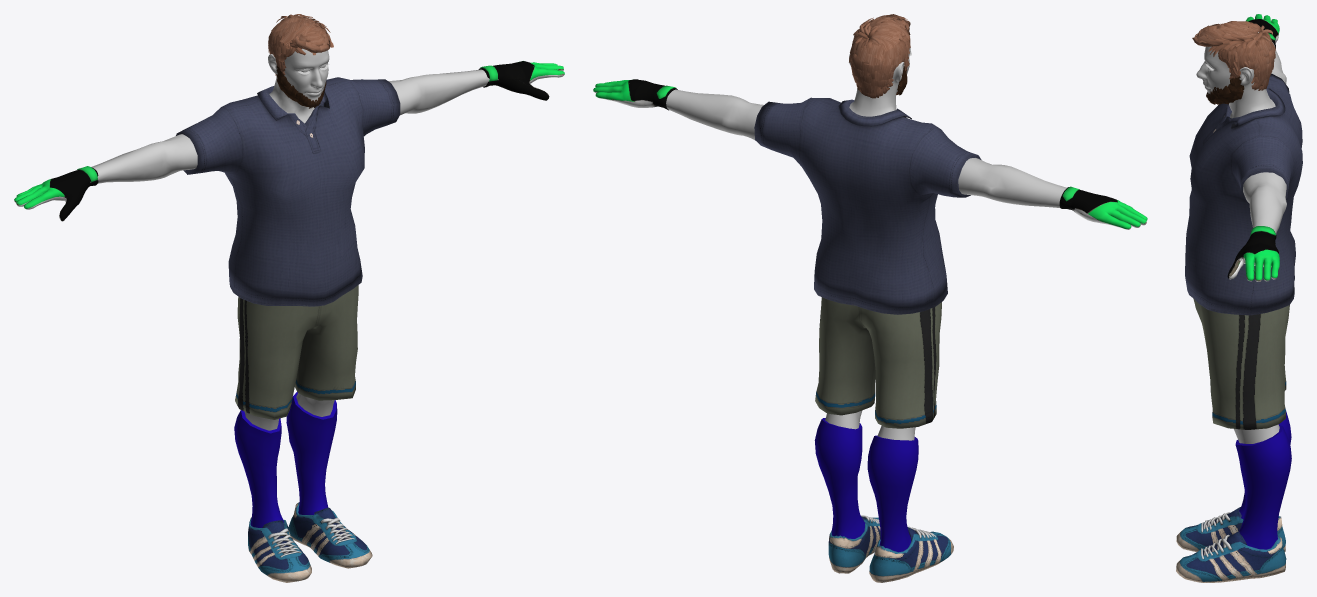
File: football-player.obj
3 views of the same model, side by side, from view 1: azimuth 30°, elevation 25°; view 2: azimuth 150°, elevation 25°; view 3: azimuth 270°, elevation 25° (orthographic).
Visible parts, largest first — view 1: Tops, Bottoms, Body, Socks, Shoes, Gloves, Hair; view 2: Tops, Bottoms, Socks, Body, Shoes, Hair, Gloves; view 3: Tops, Bottoms, Shoes, Socks, Body, Hair, Gloves, Beards.
Part boxes in pixels (x1=…): Tops: x1=176, y1=77, x2=400, y2=306; Bottoms: x1=235, y1=285, x2=358, y2=419; Body: x1=90, y1=19, x2=498, y2=430; Socks: x1=234, y1=392, x2=337, y2=527; Shoes: x1=248, y1=502, x2=372, y2=582; Gloves: x1=14, y1=61, x2=564, y2=221; Hair: x1=268, y1=14, x2=333, y2=75; Tops: x1=754, y1=97, x2=981, y2=314; Bottoms: x1=815, y1=297, x2=941, y2=428; Socks: x1=814, y1=418, x2=918, y2=552; Body: x1=666, y1=48, x2=1066, y2=440; Shoes: x1=828, y1=515, x2=953, y2=582; Hair: x1=849, y1=14, x2=910, y2=98; Gloves: x1=593, y1=79, x2=1147, y2=229; Tops: x1=1185, y1=73, x2=1302, y2=315; Bottoms: x1=1193, y1=298, x2=1289, y2=429; Shoes: x1=1176, y1=507, x2=1286, y2=582; Socks: x1=1235, y1=411, x2=1291, y2=549; Body: x1=1196, y1=32, x2=1286, y2=443; Hair: x1=1192, y1=21, x2=1275, y2=90; Gloves: x1=1227, y1=14, x2=1279, y2=281; Beards: x1=1206, y1=75, x2=1244, y2=104.
Bounding box in the file's own units: 1.94 × 1.82 × 0.3891.
